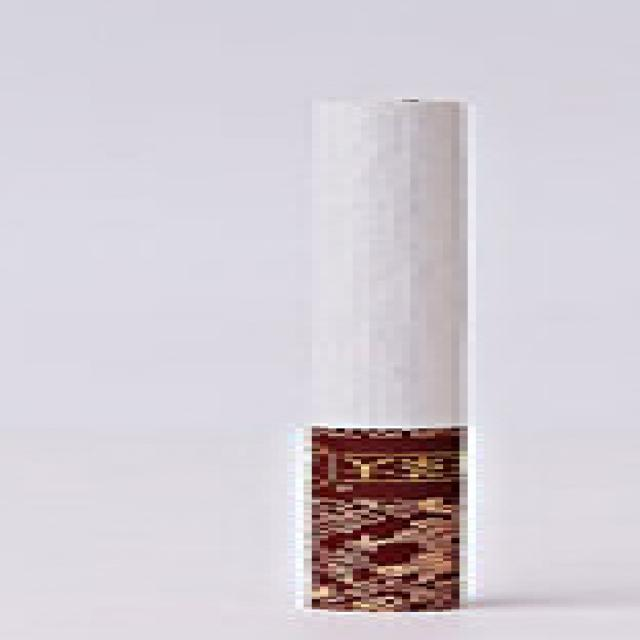smoking: (297, 90, 482, 615)
